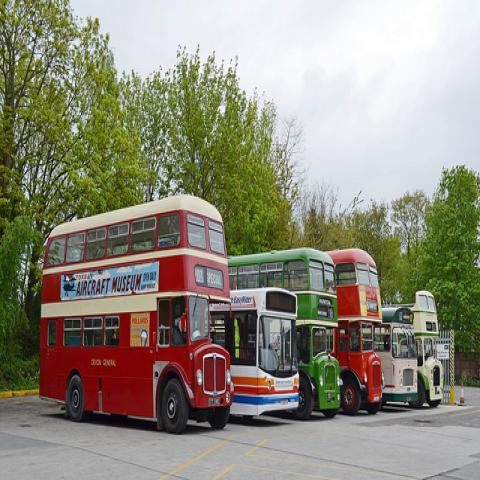bus: (39, 193, 234, 435), (230, 250, 343, 418), (324, 251, 384, 415), (230, 288, 300, 420), (373, 308, 418, 403), (408, 288, 442, 409)
